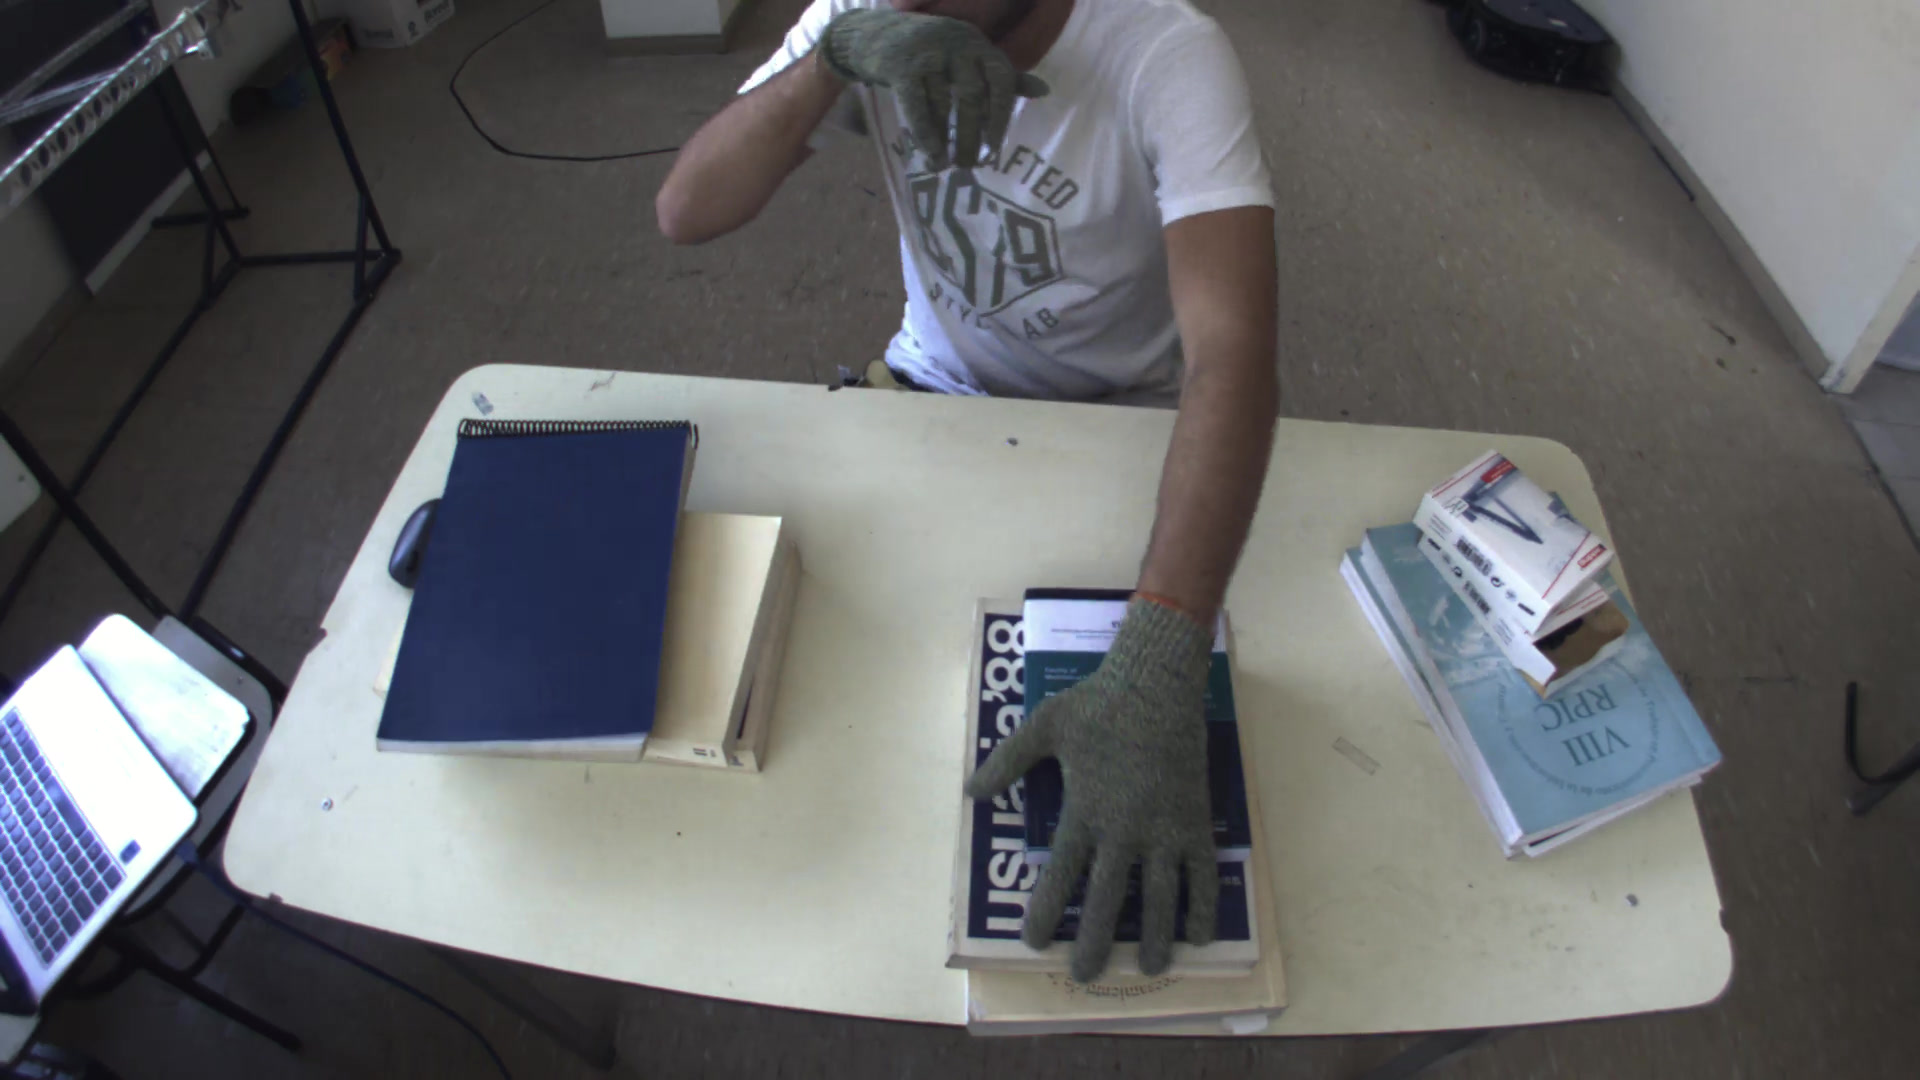hand: (969, 584, 1246, 985), (810, 1, 1048, 142)
